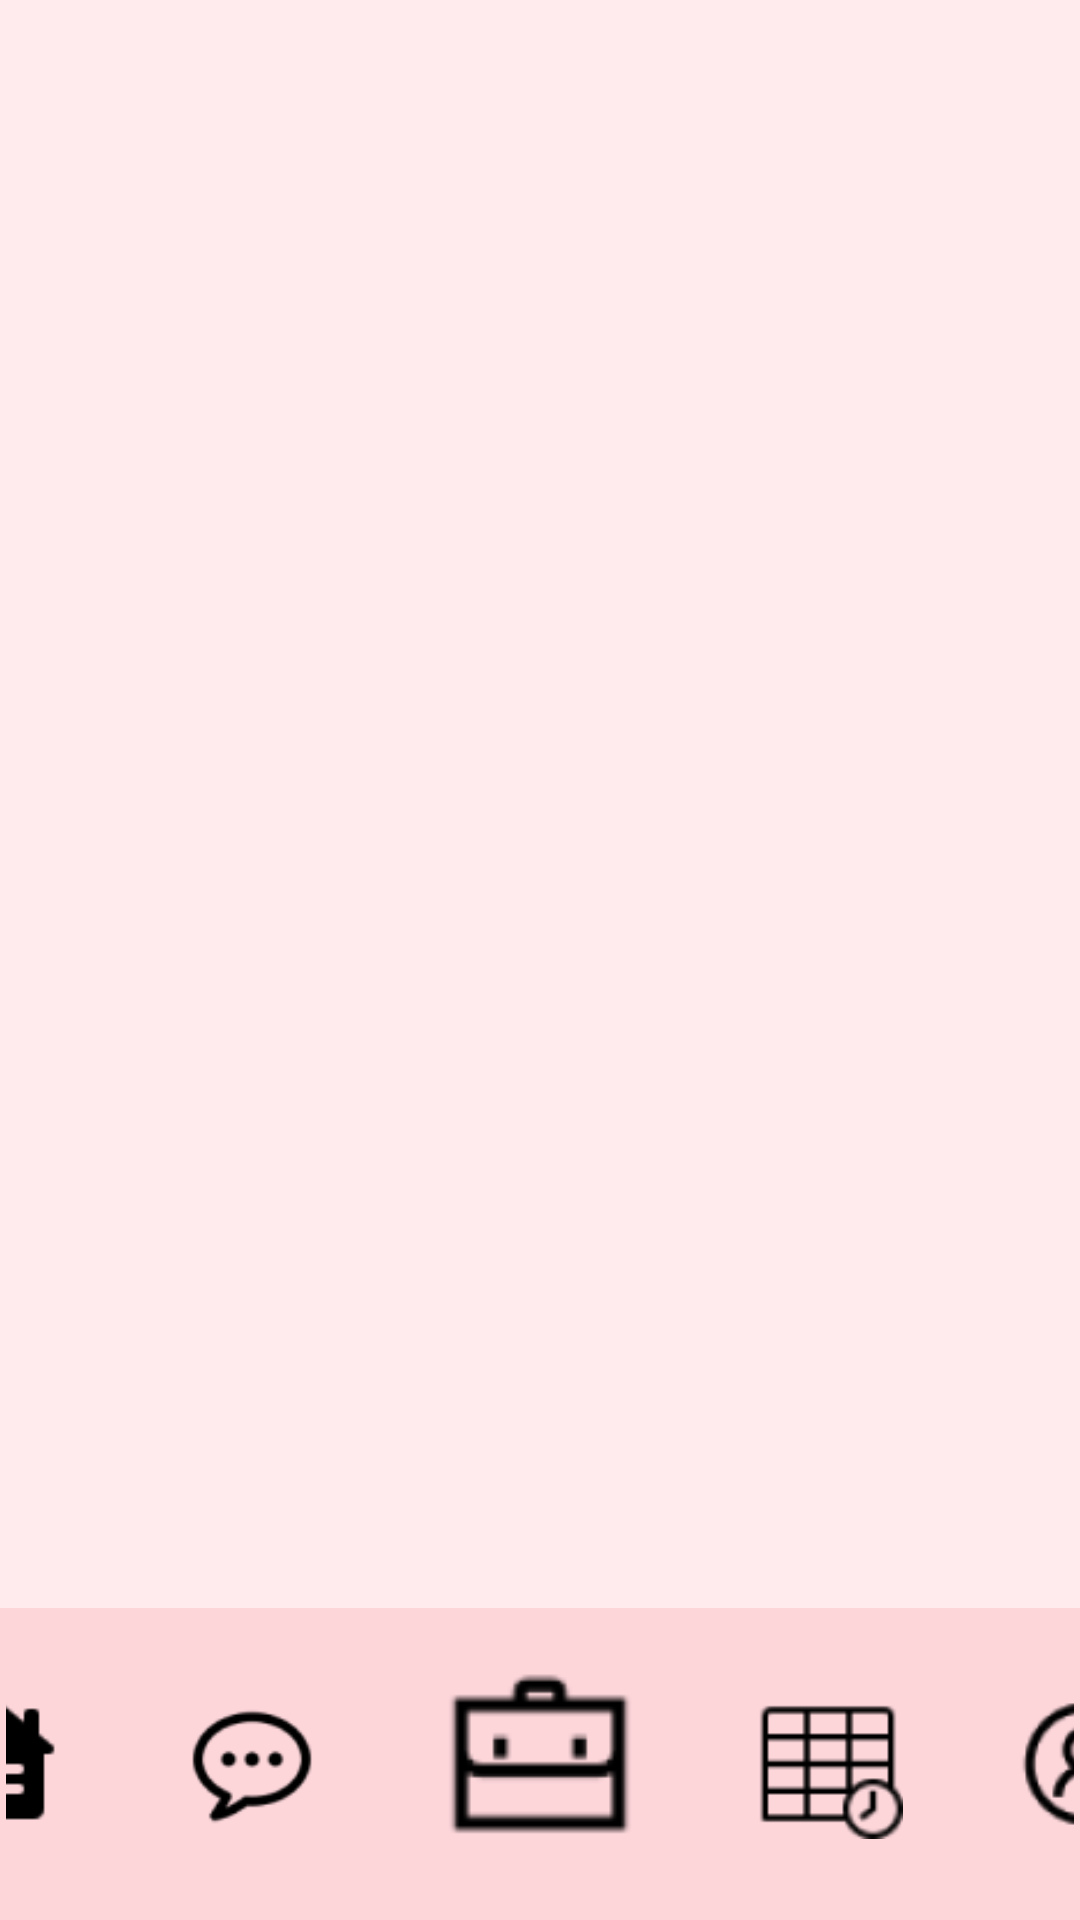

Screen size 1080 x 1920. Icon name, then its center in pixels as (x=x, y=y):
chatbubble: (x=252, y=1766)
timetable: (x=831, y=1772)
